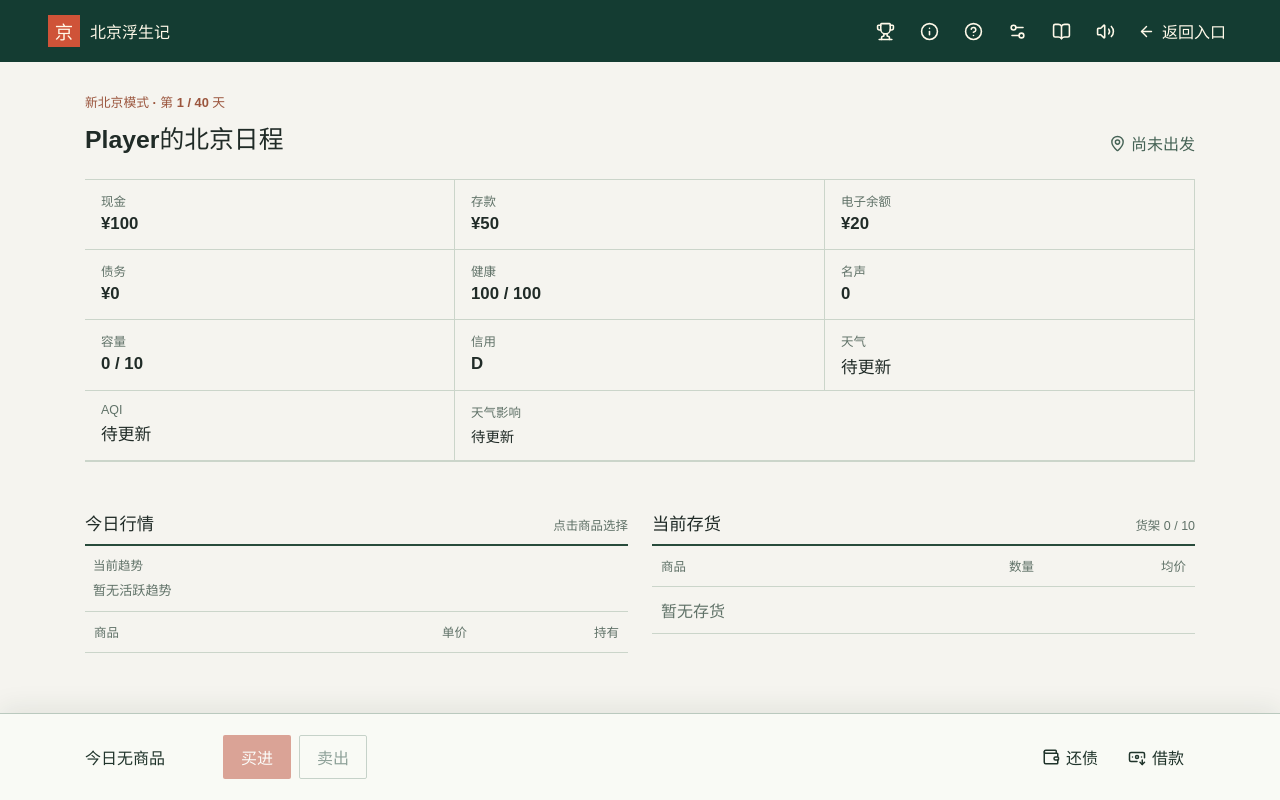
groups journal entries by day and filters transaction entries
Click the button named "旅程日记". click: (1062, 31)
box: [1044, 13, 1080, 49]
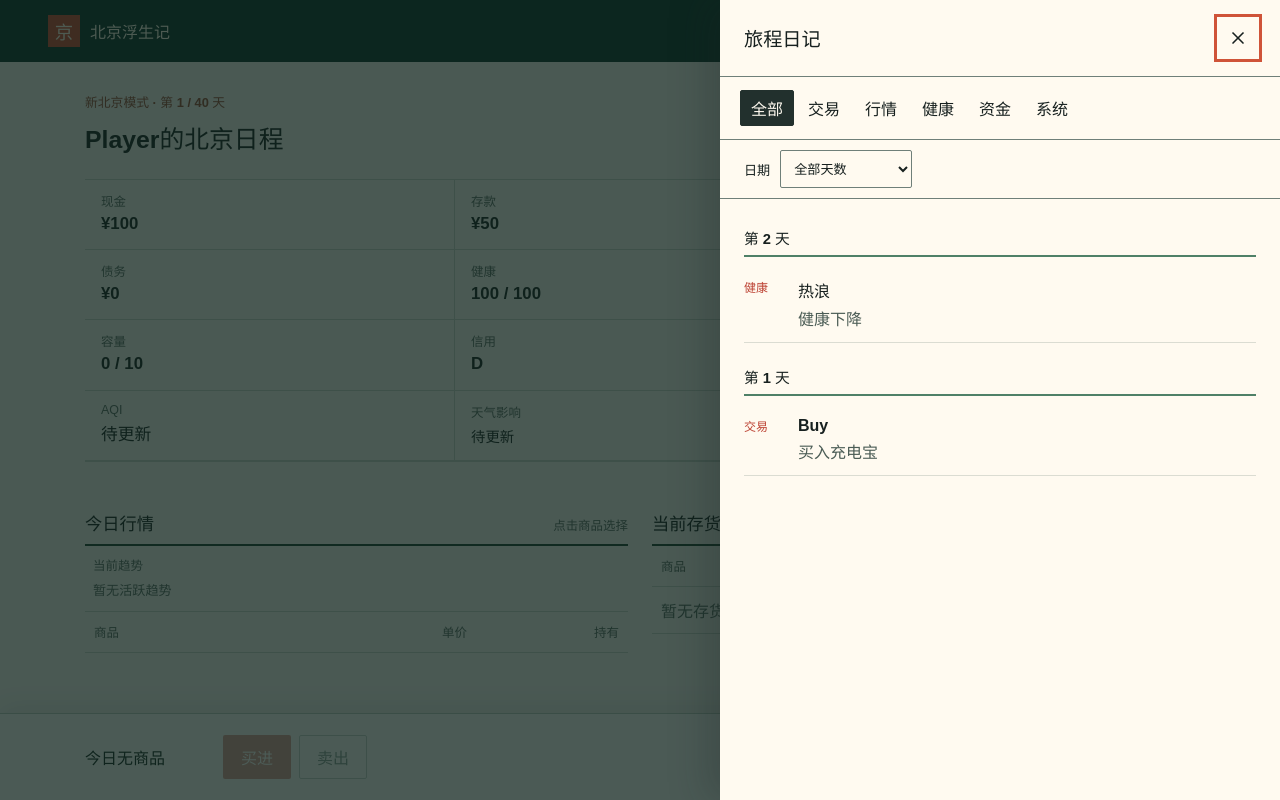
Now the dialog "旅程日记" shows "第 1 天", box [720, 0, 1279, 799]
Now the dialog "旅程日记" shows "第 2 天", box [720, 0, 1279, 799]
Click the button "交易". click: (824, 108)
box: [797, 90, 851, 126]
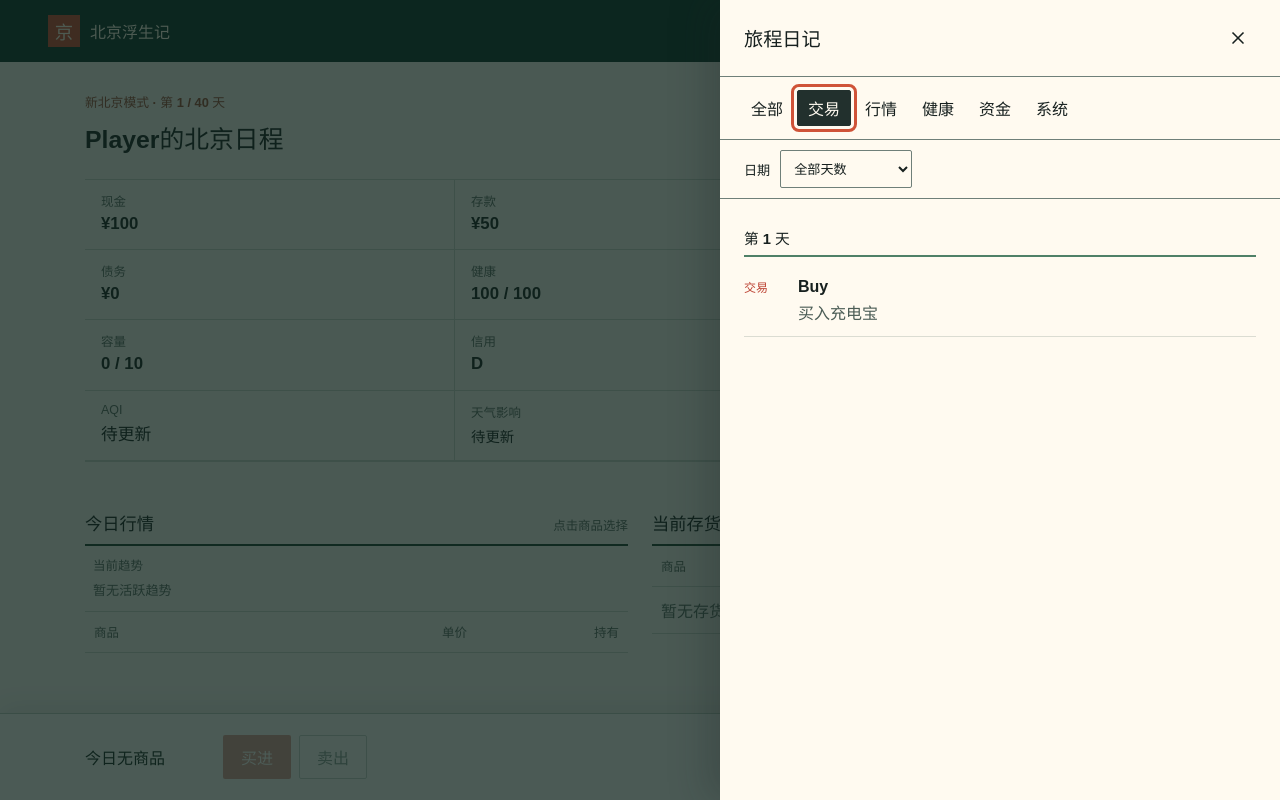
Now the dialog "旅程日记" shows "买入充电宝", box [798, 305, 878, 322]
Now the dialog "旅程日记" no longer shows "健康下降", box [720, 0, 1279, 799]
